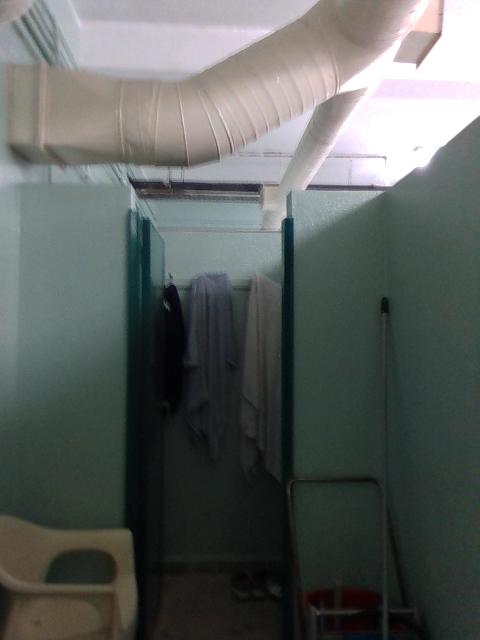open_door: (129, 180, 296, 638)
